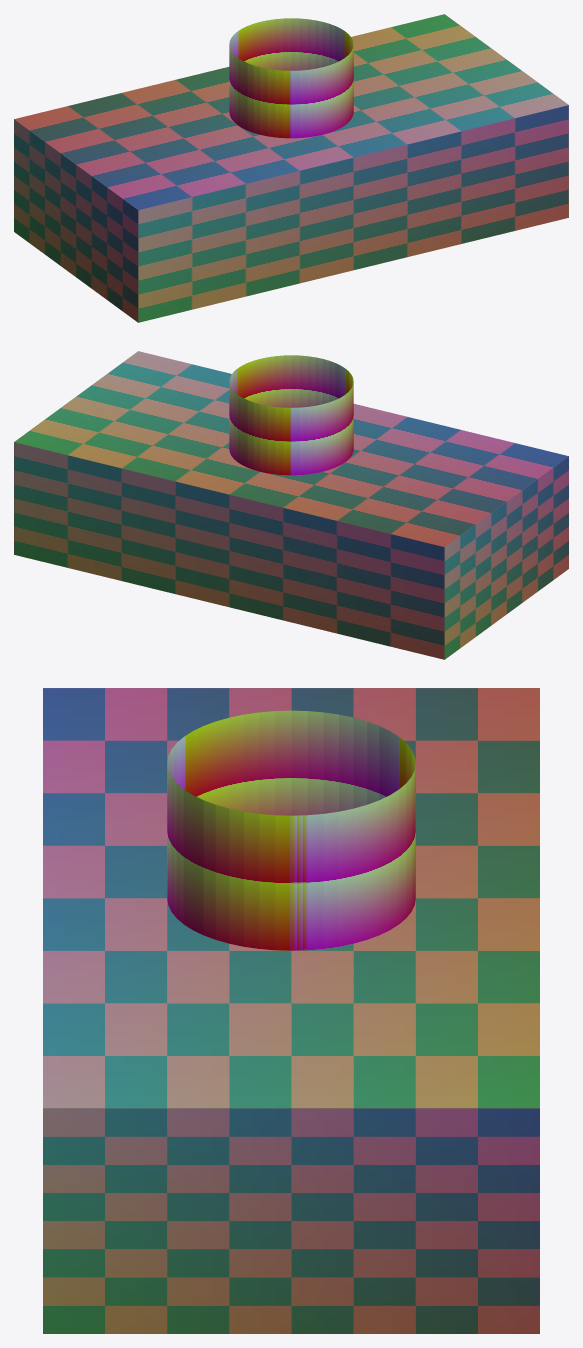
Rendered from test_asset.obj.
3 views of the same model, one above another, from view 1: azimuth 30°, elevation 25°; view 2: azimuth 150°, elevation 25°; view 3: azimuth 270°, elevation 25° (orthographic). The views are drawn at different scales.
Visible parts, largest first — view 1: Body, Base; view 2: Body, Base; view 3: Body, Base.
Boxes of the visible parts, x1,y1,x2,y2 form: Body: [14, 14, 568, 322]; Base: [229, 18, 353, 138]; Body: [14, 351, 568, 659]; Base: [229, 355, 353, 475]; Body: [43, 688, 539, 1333]; Base: [167, 710, 415, 950].
Bounding box in the file's own units: 4 × 1.6 × 2.
